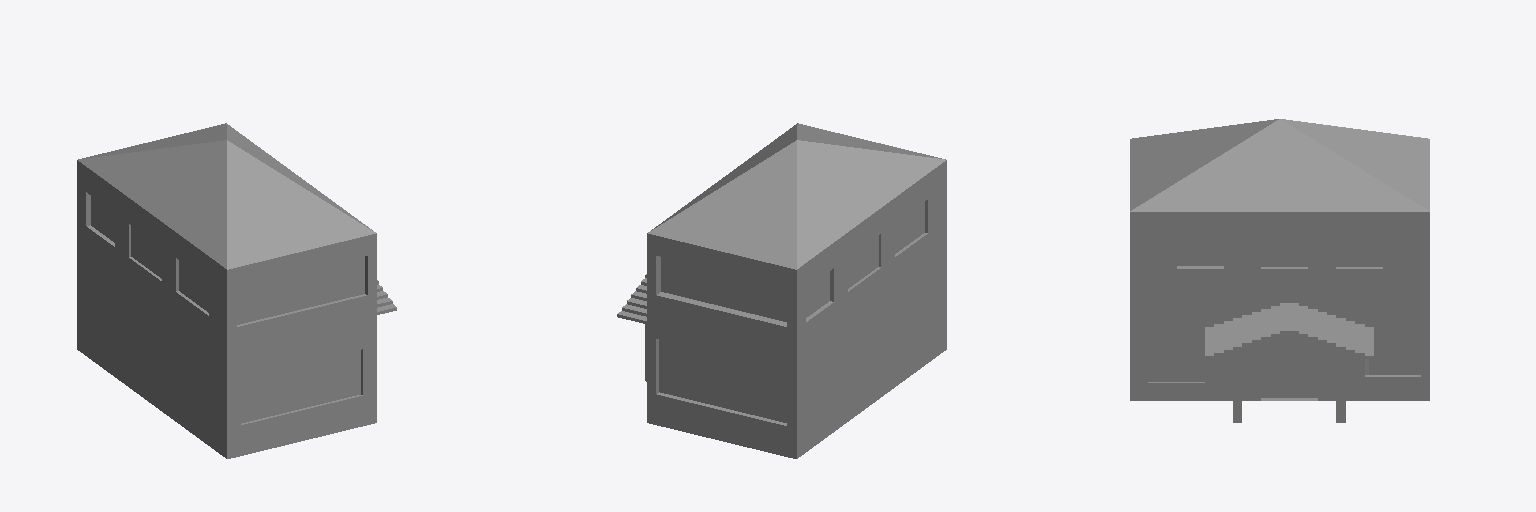
The model's file is Hospital.obj.
The picture shows the model from 3 angles: view 1: azimuth 30°, elevation 25°; view 2: azimuth 150°, elevation 25°; view 3: azimuth 270°, elevation 25°; orthographic projection.
Visible parts, largest first — view 1: Cube; view 2: Cube; view 3: Cube.
Part boxes in pixels (x1,y1,x2,y2): Cube: (77,123,396,458); Cube: (617,123,946,458); Cube: (1130,119,1429,422).
Bounding box in the file's own units: 5.36 × 6.07 × 6.73.